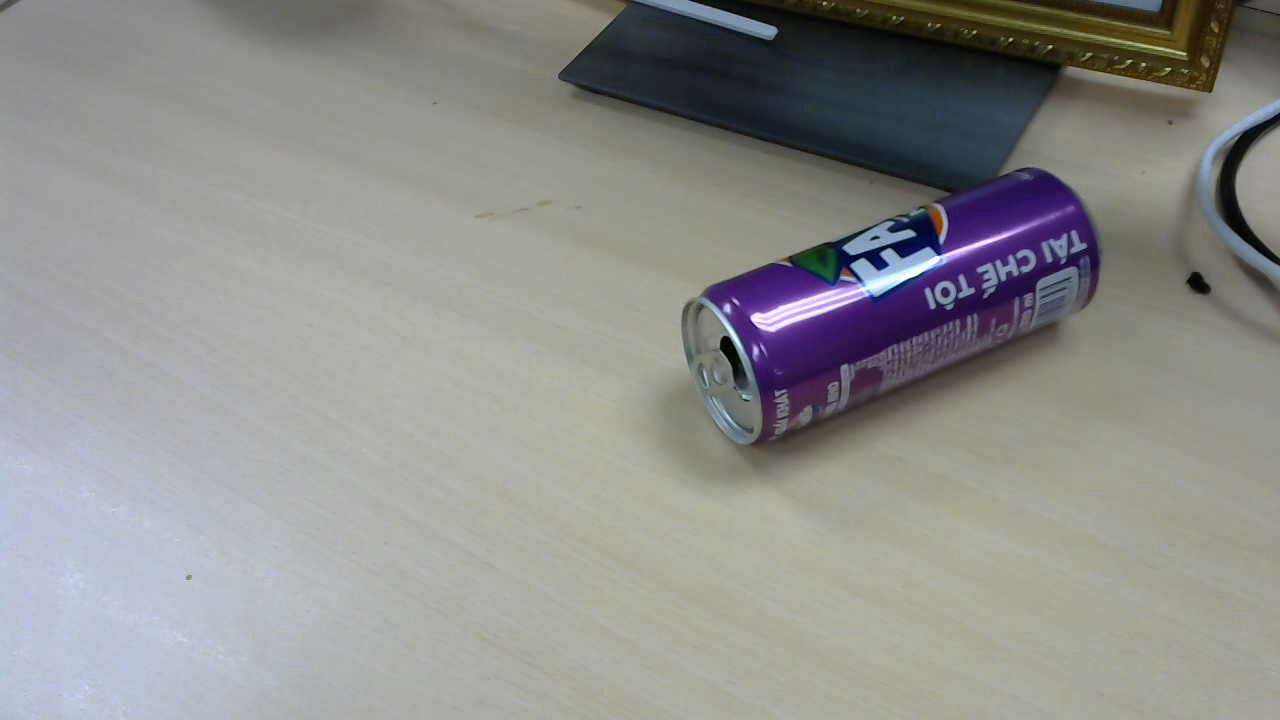Fanta: (685, 169, 1108, 452)
